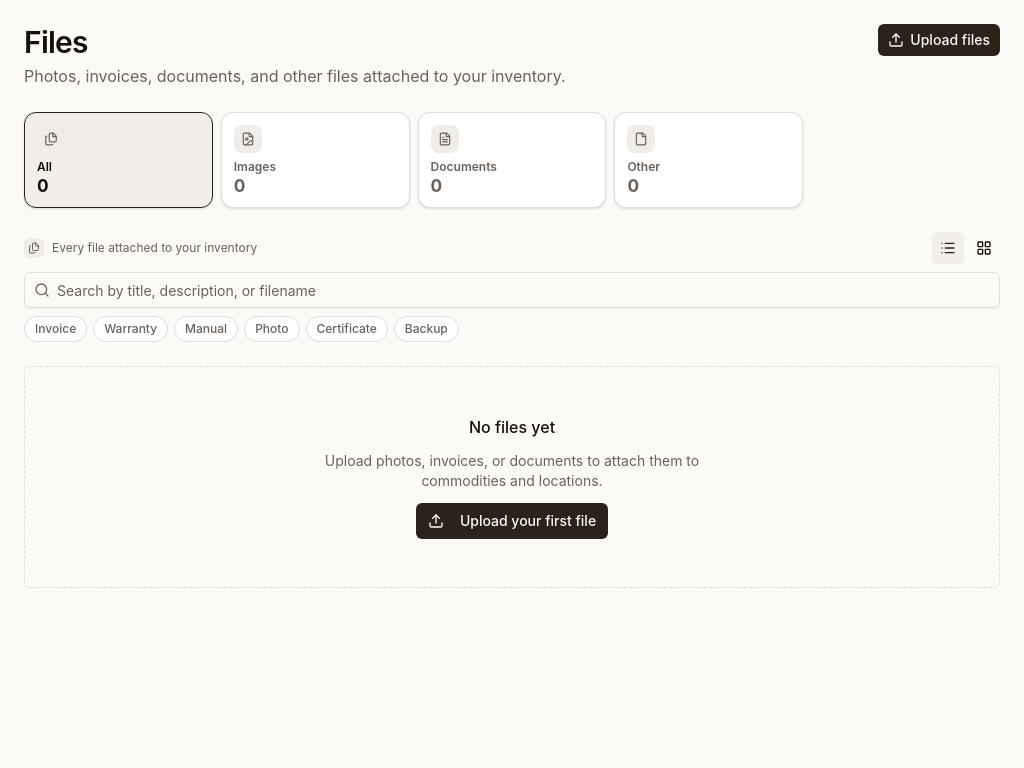
Test: <FilesListPage /> › toggles a curated tag pill — flips aria-pressed and reveals Clear all
The width and height of the screenshot is (1024, 768).
Click the button with test id "files-tag-pill-warranty": (131, 329) [93,316,168,342]
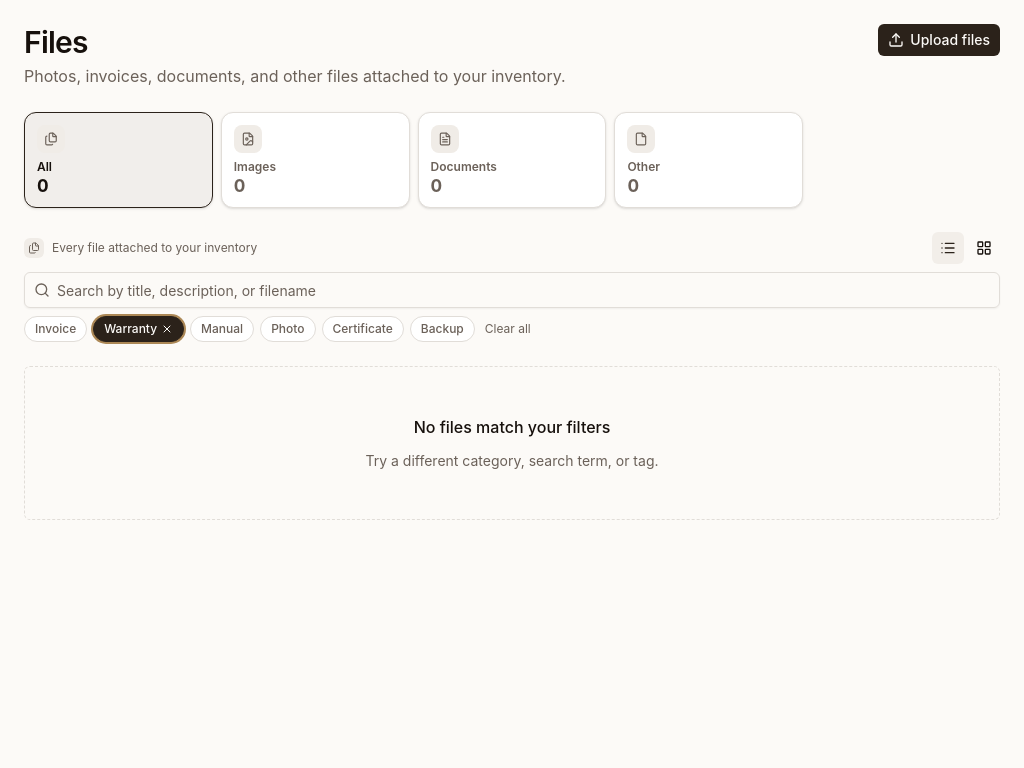
Check: the button with test id "files-tag-clear" is shown, box [485,321,531,337]
